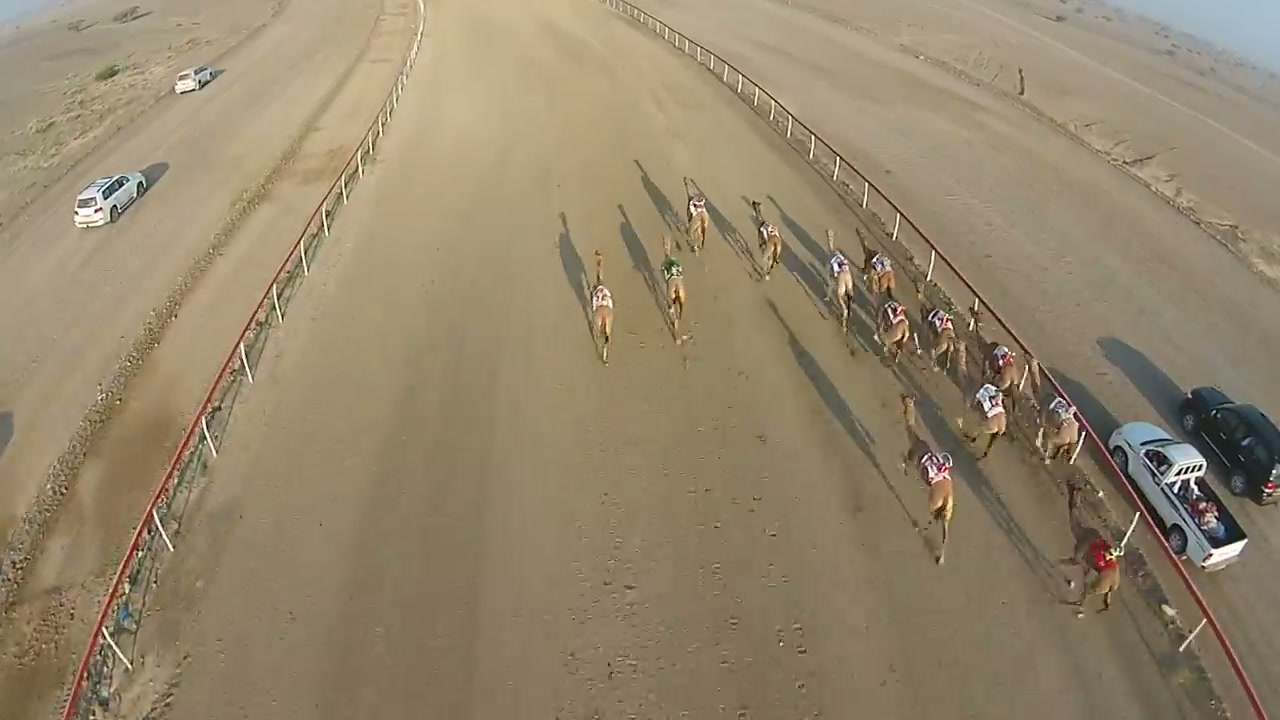animal_foot_print: (555, 309, 875, 715)
